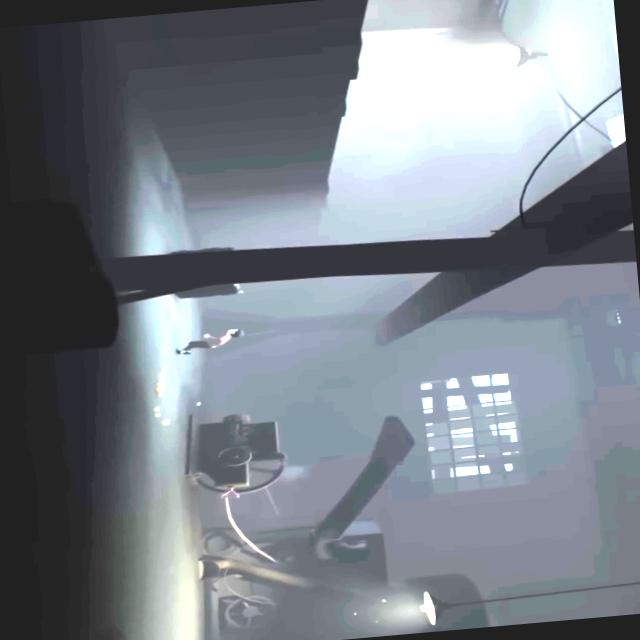boy: (177, 328, 243, 354)
